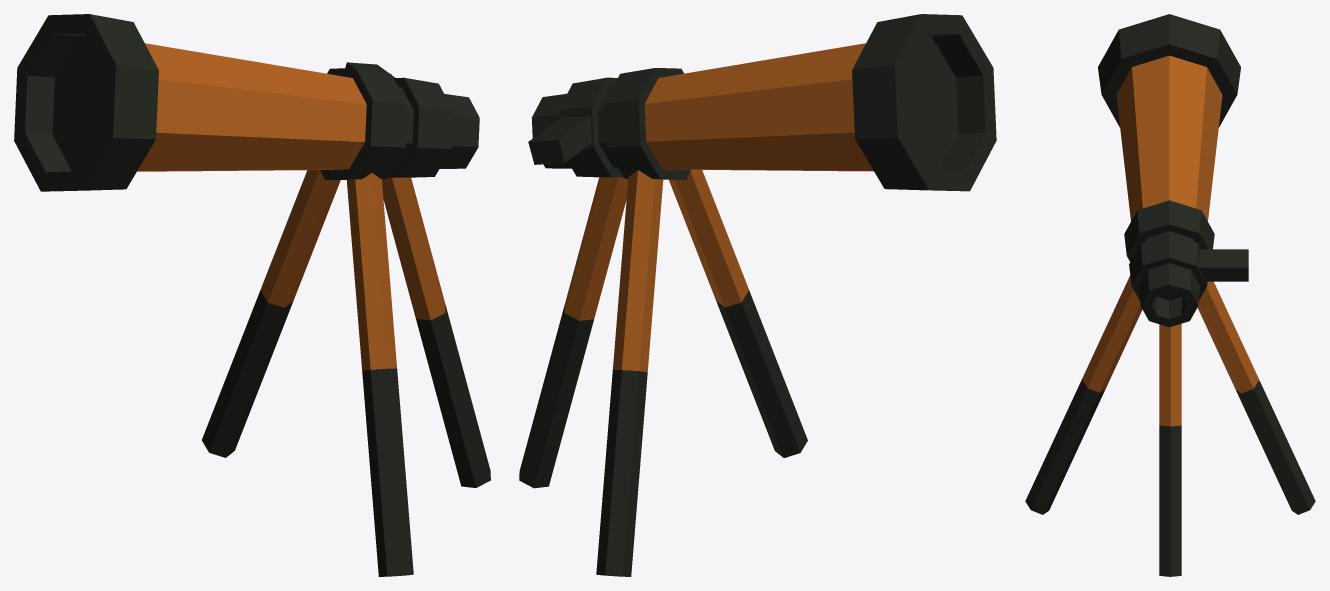
File: telescope.fbx
3 views of the same model, side by side, from view 1: azimuth 30°, elevation 25°; view 2: azimuth 150°, elevation 25°; view 3: azimuth 270°, elevation 25° (orthographic). The views are drawn at different scales.
Parts seen in each view (by area): view 1: telescope; view 2: telescope; view 3: telescope.
Part boxes in pixels (x1,y1,x2,y2): telescope: (14,14,490,576); telescope: (519,14,996,576); telescope: (1025,14,1315,576).
Bounding box in the file's own units: 140 × 167 × 104.
